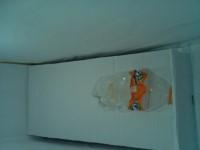bottle: (89, 70, 173, 114)
